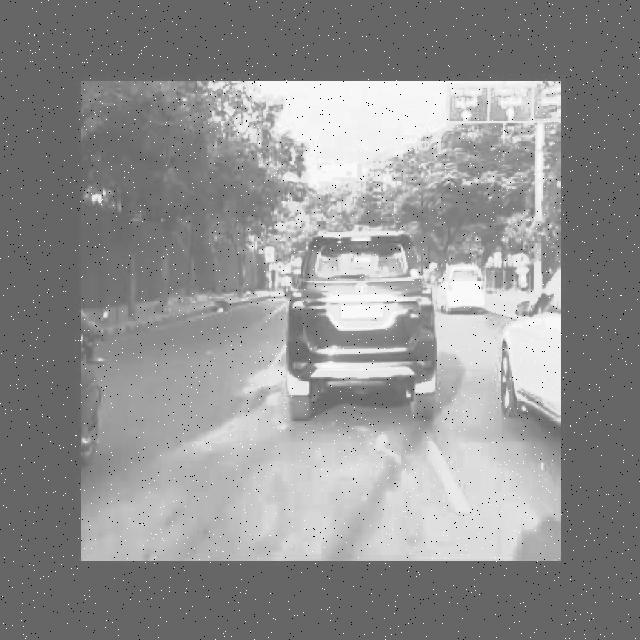Car: (276, 212, 446, 456), (502, 265, 560, 439), (437, 257, 503, 321)
